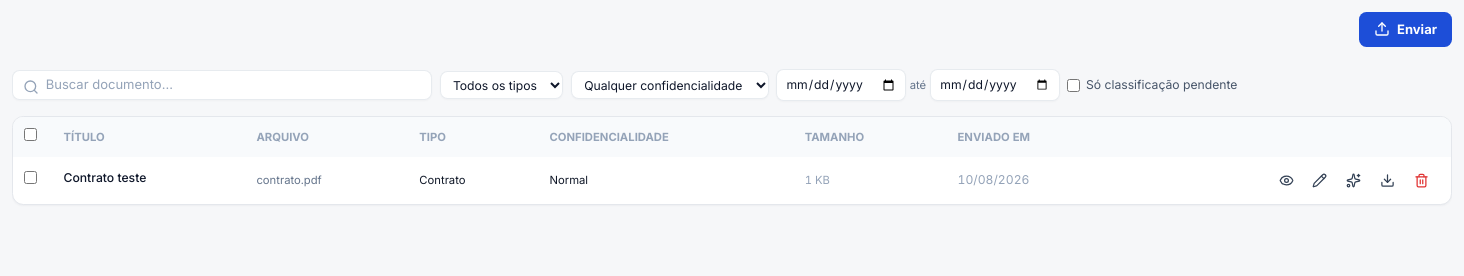
Scenario: Documentos — RBAC de vínculo › expõe a ação para papel jurídico autorizado: superadmin
Check: the text "Contrato teste" is shown, box [48, 157, 241, 199]
Click the checkbox named "Selecionar Contrato teste" at (31, 178), box [24, 171, 37, 184]
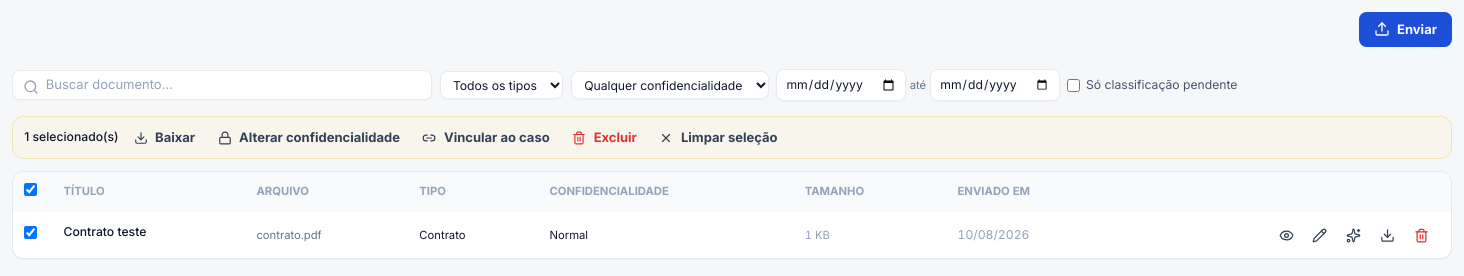
Check: the text "1 selecionado(s)" is shown, box [24, 128, 119, 147]
Check: the button "Vincular ao caso" is shown, box [415, 124, 557, 151]
